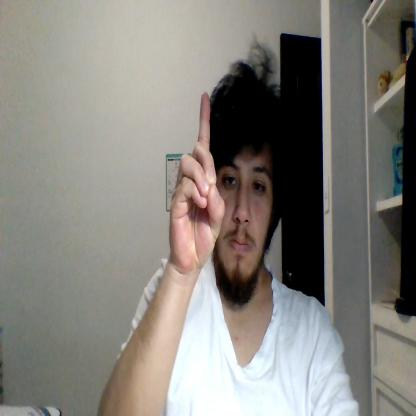D: (170, 92, 224, 269)
